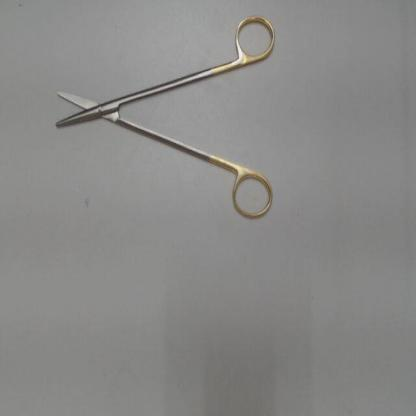7 Metzenbaum Scissors: (51, 9, 279, 228)
